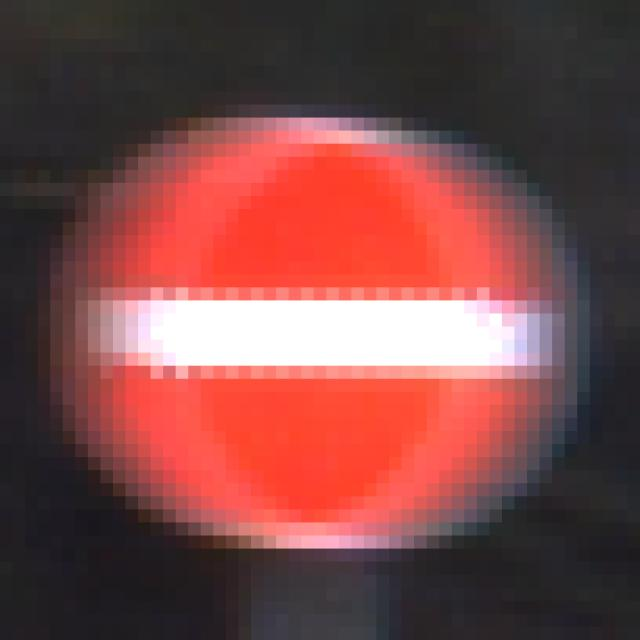No Entry: (64, 66, 578, 576)
